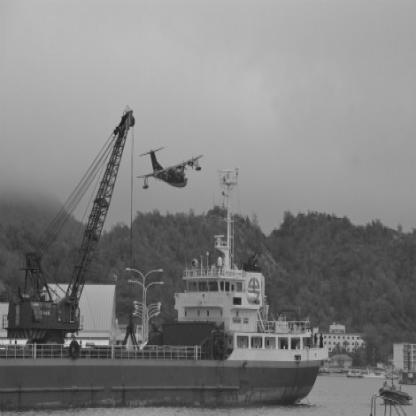US2: (136, 145, 207, 191)
